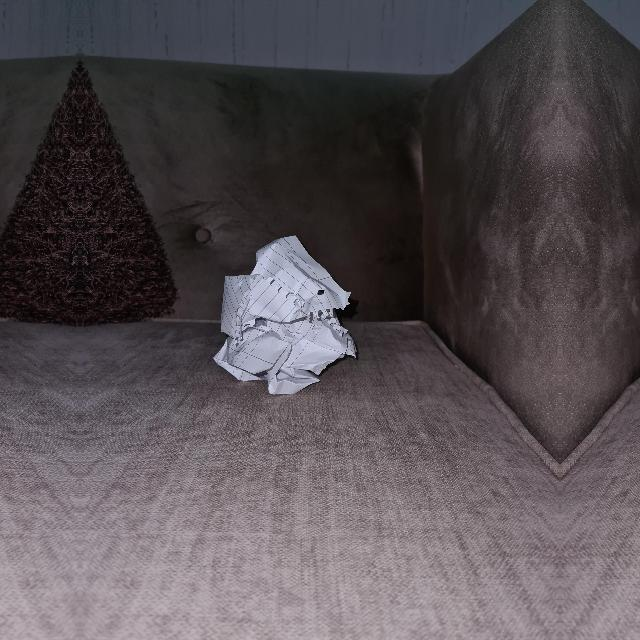paper: (212, 237, 358, 399)
